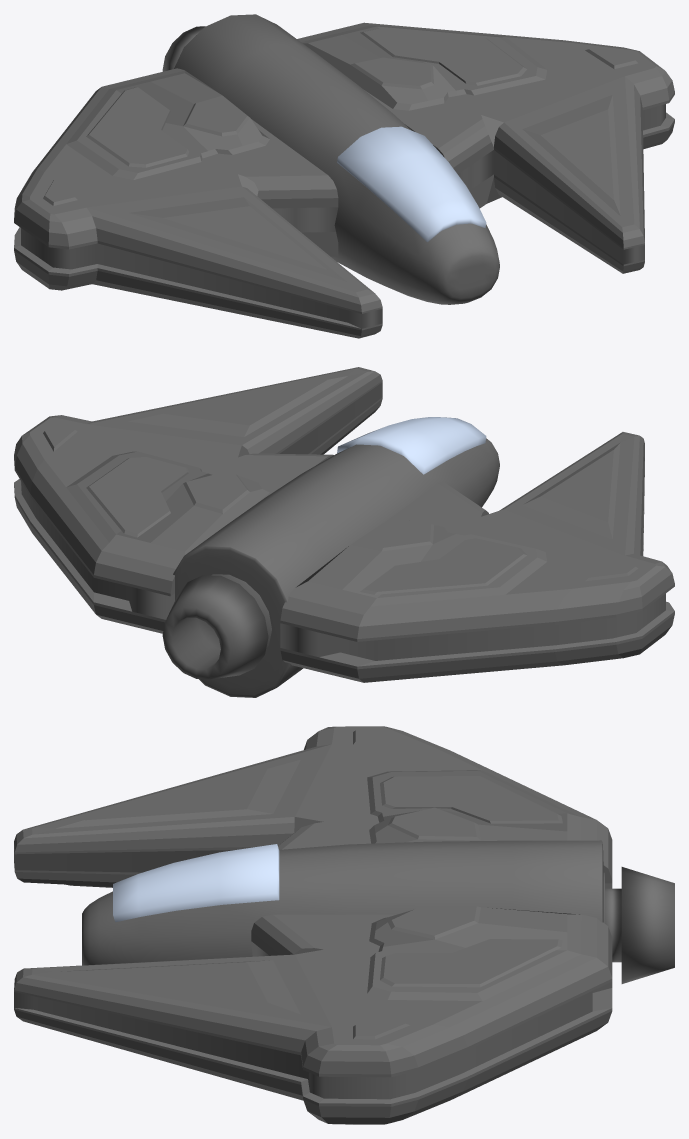
File: ship.glb
3 views of the same model, one above another, from view 1: azimuth 30°, elevation 25°; view 2: azimuth 150°, elevation 25°; view 3: azimuth 270°, elevation 25° (orthographic). The views are drawn at different scales.
Visible parts, largest first — view 1: wing, Cube, Cube.001, jet cylinder; view 2: wing, Cube, jet cylinder, Cube.001; view 3: wing, Cube, Cube.001, jet cylinder.
Boxes of the visible parts, left/top/right/bottom form: wing: left=14, top=22, right=674, bottom=338; Cube: left=174, top=14, right=499, bottom=304; Cube.001: left=337, top=126, right=486, bottom=242; jet cylinder: left=162, top=26, right=205, bottom=71; wing: left=14, top=367, right=674, bottom=682; Cube: left=173, top=438, right=499, bottom=697; jet cylinder: left=162, top=574, right=271, bottom=679; Cube.001: left=337, top=417, right=486, bottom=474; wing: left=14, top=726, right=612, bottom=1124; Cube: left=82, top=840, right=603, bottom=965; Cube.001: left=113, top=844, right=279, bottom=922; jet cylinder: left=603, top=867, right=674, bottom=983.
Bounding box in the file's own units: 2.77 × 0.6316 × 2.34.
